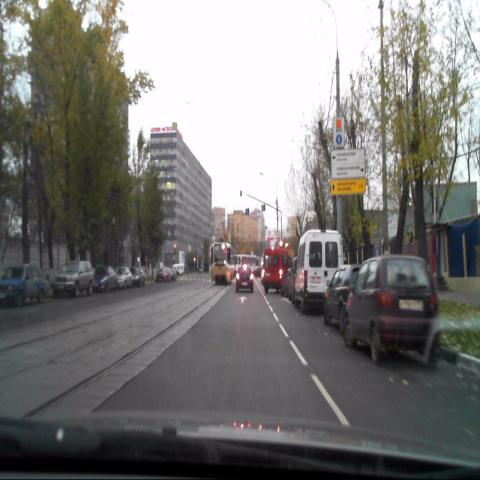4_8_2: (333, 117, 345, 146)
